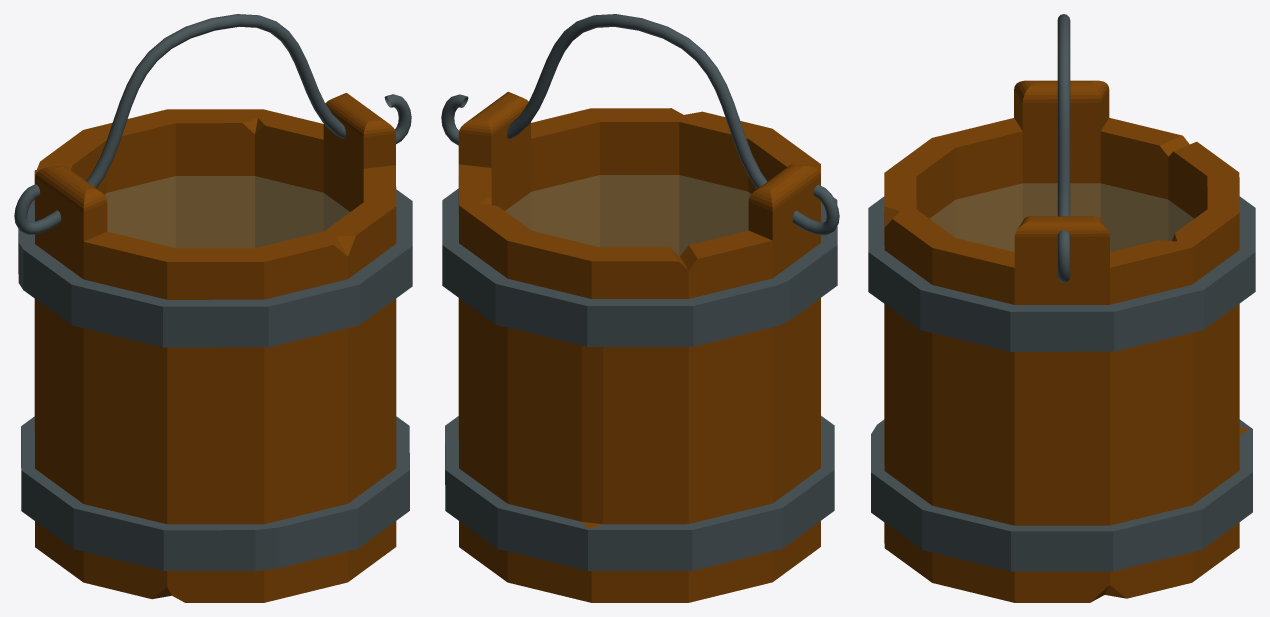
The model's file is annaffiatoio.glb.
3 renders of one model, left to right at view 1: azimuth 30°, elevation 25°; view 2: azimuth 150°, elevation 25°; view 3: azimuth 270°, elevation 25°, orthographic.
Parts seen in each view (by area): view 1: Cylinder, Cylinder.001, BézierCircle; view 2: Cylinder, Cylinder.001, BézierCircle; view 3: Cylinder, Cylinder.001, BézierCircle.
Boxes of the visible parts, x1,y1,x2,y2 form: Cylinder: [18, 93, 412, 602]; Cylinder.001: [105, 176, 349, 247]; BézierCircle: [14, 14, 411, 234]; Cylinder: [442, 91, 837, 602]; Cylinder.001: [505, 175, 750, 255]; BézierCircle: [441, 14, 839, 235]; Cylinder: [868, 80, 1255, 602]; Cylinder.001: [930, 184, 1193, 251]; BézierCircle: [1057, 14, 1070, 282].
Bounding box in the file's own units: 2.15 × 2.63 × 1.85.
